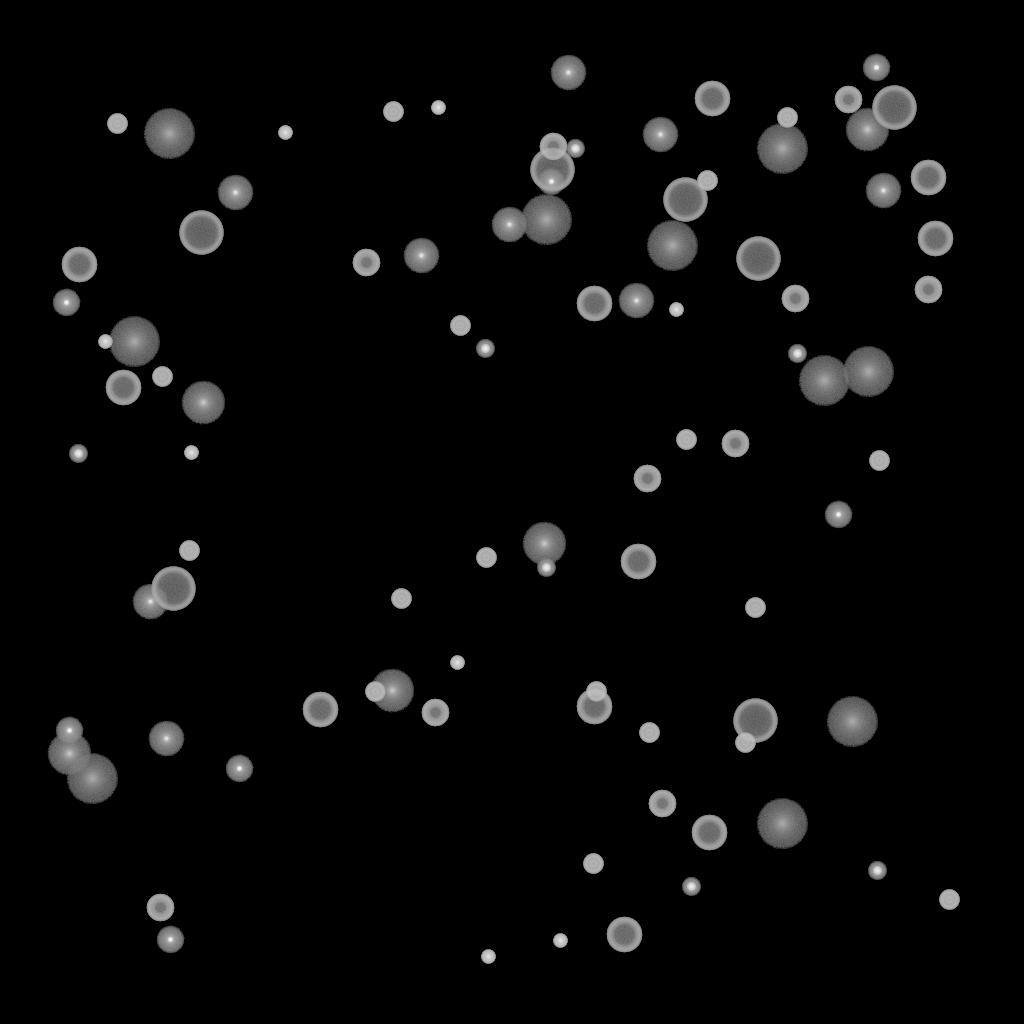depth:-10: (55, 717, 83, 745), (537, 168, 565, 196), (824, 501, 852, 529), (156, 926, 184, 954), (862, 54, 890, 82), (52, 289, 80, 317), (225, 755, 253, 783)
depth:-20: (566, 140, 584, 158), (69, 445, 87, 463), (868, 862, 886, 880), (537, 559, 555, 577), (788, 345, 806, 363), (476, 340, 494, 358), (682, 878, 700, 896)
depth:-30: (431, 101, 445, 115), (98, 335, 112, 349), (184, 446, 198, 460), (669, 303, 683, 317), (481, 950, 495, 964), (553, 934, 567, 948), (278, 126, 292, 140), (450, 656, 464, 670)
depth:-40: (939, 890, 959, 910), (735, 733, 755, 753), (697, 171, 717, 191), (383, 102, 403, 122), (365, 682, 385, 702), (179, 541, 199, 561), (476, 548, 496, 568), (745, 598, 765, 618), (107, 114, 127, 134), (777, 108, 797, 128), (391, 589, 411, 609), (583, 854, 603, 874), (639, 723, 659, 743), (450, 316, 470, 336), (586, 682, 606, 702), (676, 430, 696, 450), (152, 367, 172, 387), (869, 451, 889, 471)
depth:-50: (539, 133, 567, 161), (146, 894, 174, 922), (648, 790, 676, 818), (421, 699, 449, 727), (721, 430, 749, 458), (633, 465, 661, 493), (834, 86, 862, 114), (352, 249, 380, 277), (914, 276, 942, 304), (781, 285, 809, 313)
depth:-60: (917, 221, 953, 257), (105, 370, 141, 406), (576, 286, 612, 322), (302, 692, 338, 728), (691, 815, 727, 851), (61, 247, 97, 283), (910, 160, 946, 196), (576, 689, 612, 725), (694, 81, 730, 117), (620, 544, 656, 580), (606, 917, 642, 953)
depth:-70: (736, 237, 780, 281), (530, 148, 574, 192), (151, 567, 195, 611), (663, 178, 707, 222), (872, 86, 916, 130), (733, 699, 777, 743), (179, 211, 223, 255)
depth:0: (403, 238, 439, 274), (642, 117, 678, 153), (865, 173, 901, 209), (148, 721, 184, 757), (550, 55, 586, 91), (491, 207, 527, 243), (132, 584, 168, 620), (618, 283, 654, 319), (217, 175, 253, 211)
depth:10: (47, 732, 91, 776), (181, 381, 225, 425), (845, 108, 889, 152), (370, 669, 414, 713), (522, 522, 566, 566)
depth:20: (798, 356, 850, 406), (108, 317, 160, 367), (646, 221, 698, 271), (826, 697, 878, 747), (143, 109, 195, 159), (756, 124, 808, 174), (520, 195, 572, 245), (66, 754, 118, 804), (842, 347, 894, 397), (756, 799, 808, 849)
